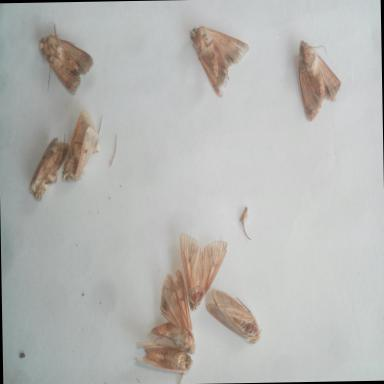abw: (187, 22, 252, 100), (178, 228, 232, 314), (36, 22, 96, 99), (149, 266, 198, 358), (296, 35, 344, 126), (58, 107, 106, 185), (204, 285, 262, 347), (25, 130, 72, 205), (131, 334, 197, 384)
